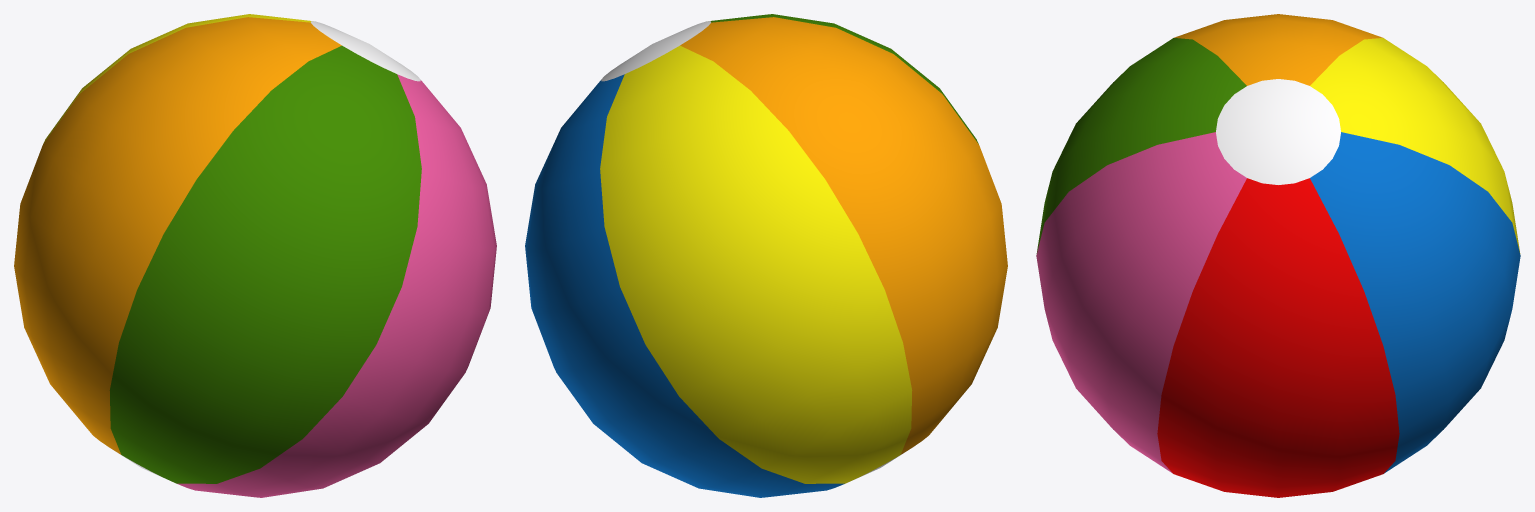
3 views of the same model, side by side, from view 1: azimuth 30°, elevation 25°; view 2: azimuth 150°, elevation 25°; view 3: azimuth 270°, elevation 25° (orthographic).
Parts seen in each view (by area): view 1: Beachball; view 2: Beachball; view 3: Beachball.
Part boxes in pixels (x1,y1,x2,y2): Beachball: (14,14,496,497); Beachball: (525,14,1007,497); Beachball: (1036,14,1520,497).
Size of what is drawn, in the model's own units: 0.3995 by 0.3995 by 0.4.
Materials: 1 (1 with a texture image).
